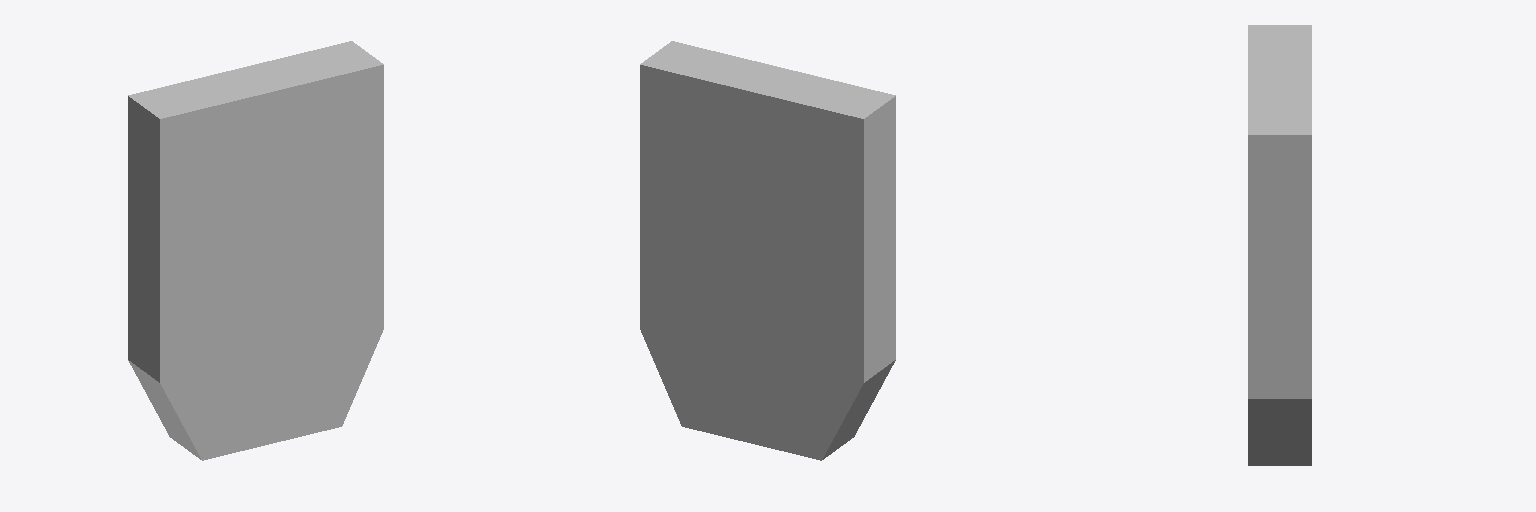
The model's file is medalBase.obj.
3 views of the same model, side by side, from view 1: azimuth 30°, elevation 25°; view 2: azimuth 150°, elevation 25°; view 3: azimuth 270°, elevation 25° (orthographic).
Visible parts, largest first — view 1: MedalBase; view 2: MedalBase; view 3: MedalBase.
Boxes of the visible parts, <box> form: MedalBase: <box>128,41,383,460</box>; MedalBase: <box>640,41,895,460</box>; MedalBase: <box>1248,25,1311,465</box>.
Size of the model in its own units: 4 by 6 by 1.